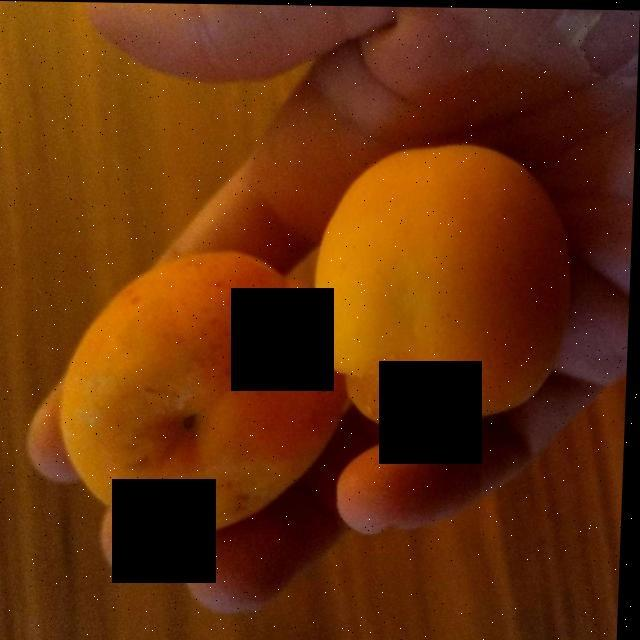apricots: (65, 133, 552, 547)
